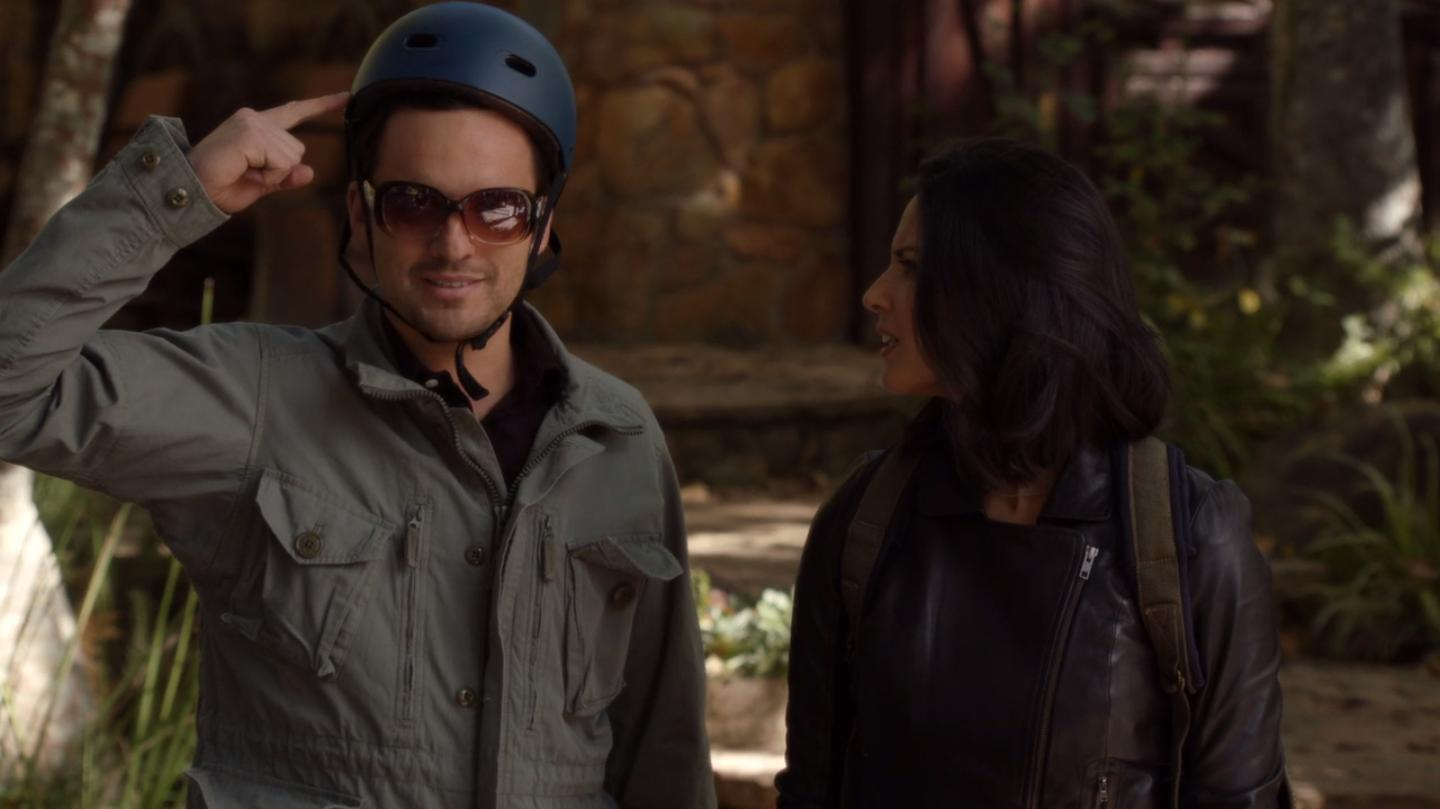person: (13, 12, 723, 803), (782, 142, 1293, 809)
